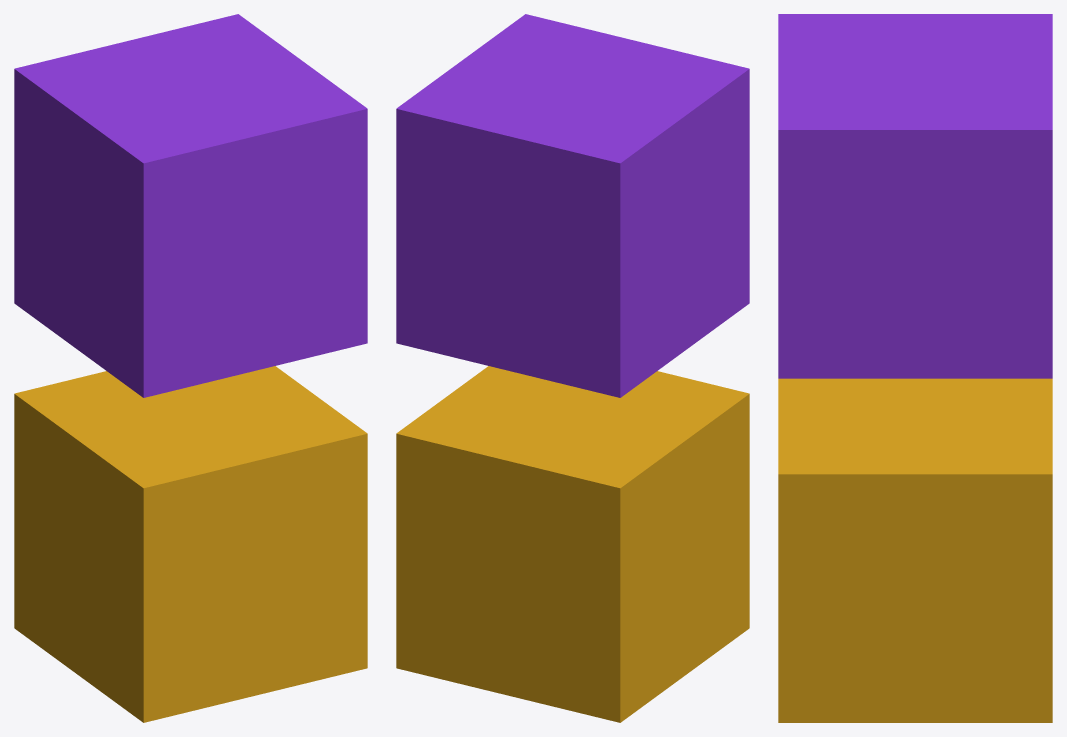
Rendered from Kolorki.fbx.
3 views of the same model, side by side, from view 1: azimuth 30°, elevation 25°; view 2: azimuth 150°, elevation 25°; view 3: azimuth 270°, elevation 25° (orthographic). The views are drawn at different scales.
Parts seen in each view (by area): view 1: Kostka.001, Kostka; view 2: Kostka.001, Kostka; view 3: Kostka.001, Kostka.
Boxes of the visible parts, x1,y1,x2,y2 form: Kostka.001: (14, 14, 367, 397); Kostka: (14, 366, 367, 722); Kostka.001: (396, 14, 749, 397); Kostka: (396, 366, 749, 722); Kostka.001: (778, 14, 1052, 378); Kostka: (778, 378, 1052, 722).
Bounding box in the file's own units: 200 × 477 × 200.
